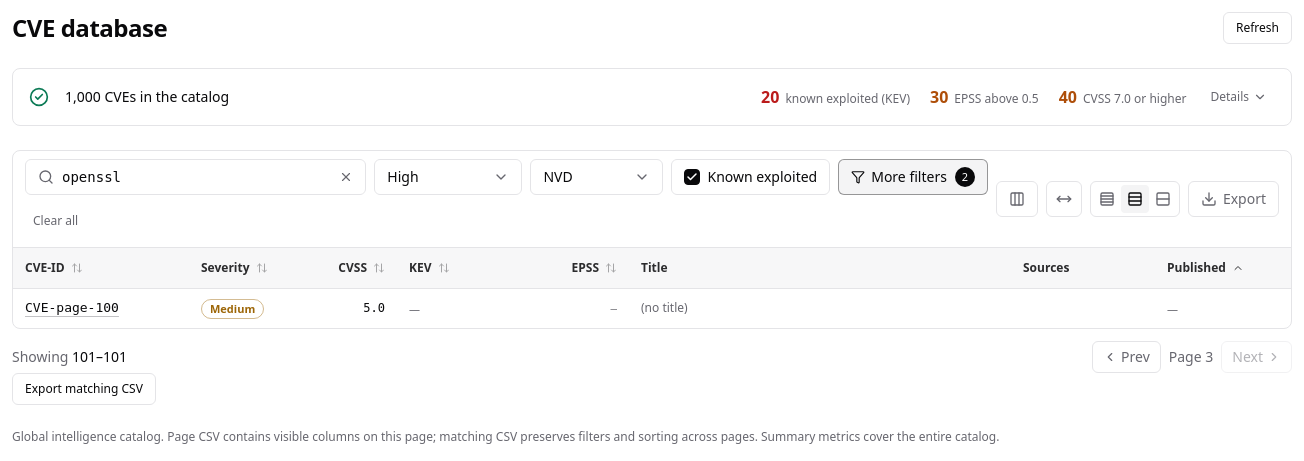
Test case: sends all reviewed filters and stable sort to matching CSV without page bounds
Click the button "Export matching CSV": (84, 389) [12, 373, 156, 405]
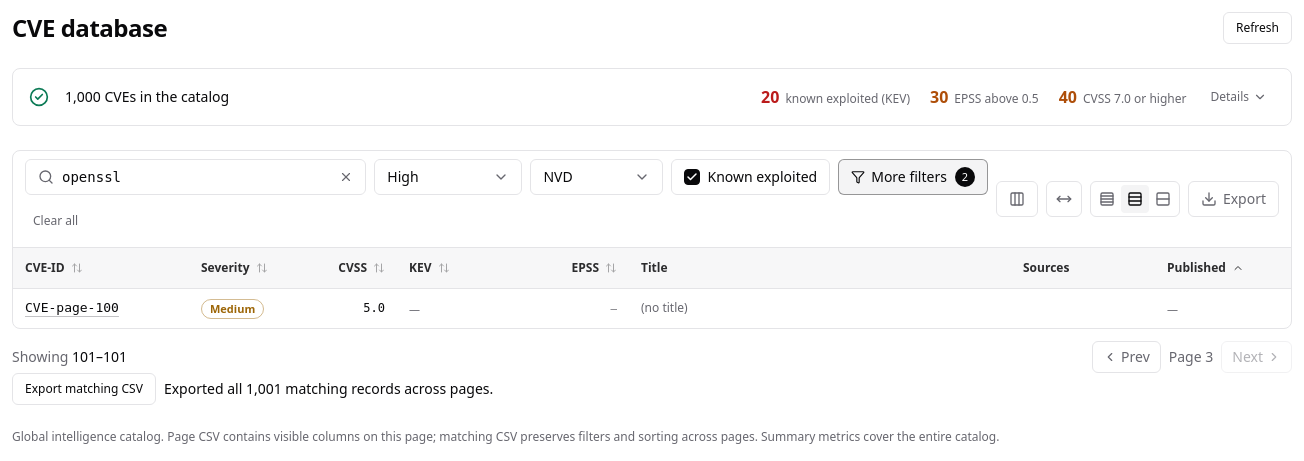
Now the text "Exported all 1,001 matching records across pages" is shown, box [164, 379, 493, 398]
